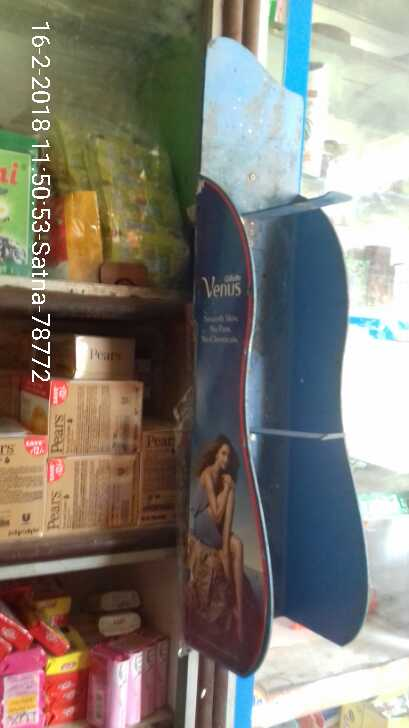reject: (175, 115, 236, 174)
